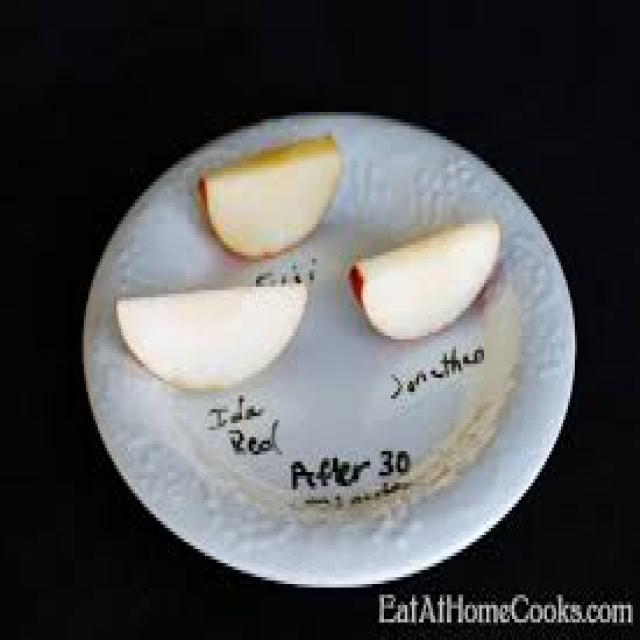Apple: (111, 276, 314, 395), (350, 216, 503, 342), (198, 138, 339, 258)
